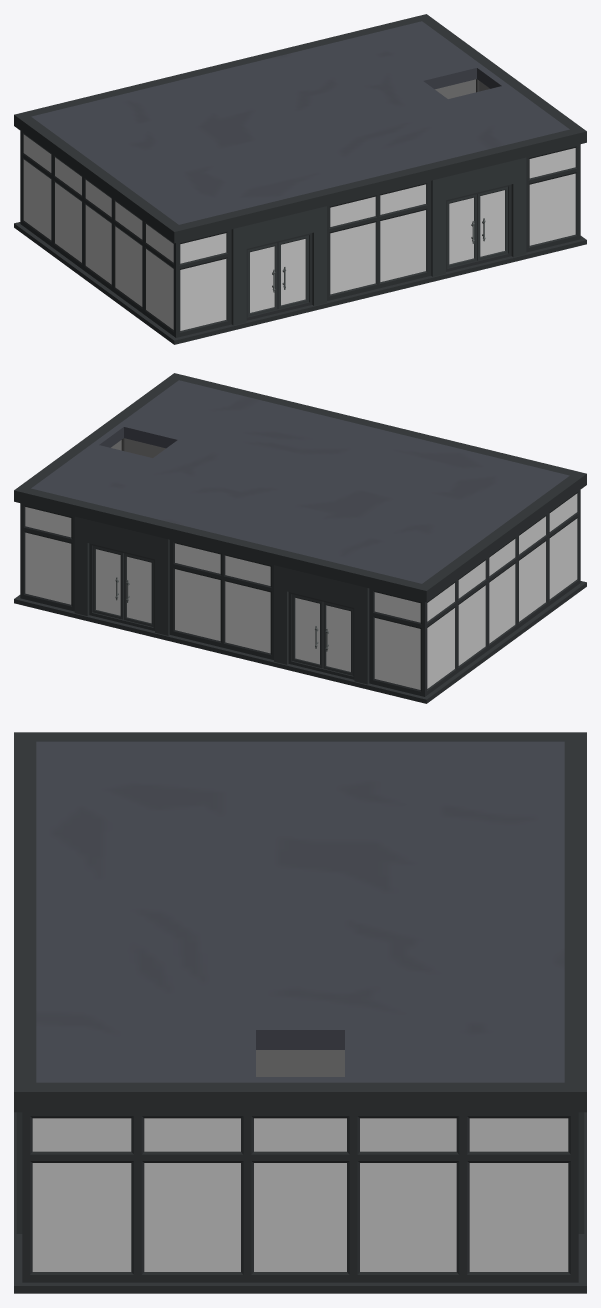
File: SM_Bldg_City_High-Rise_Modern_03_Base_01.fbx
The picture shows the model from 3 angles, top to bottom: view 1: azimuth 30°, elevation 25°; view 2: azimuth 150°, elevation 25°; view 3: azimuth 270°, elevation 25°; orthographic projection. The views are drawn at different scales.
Visible parts, largest first — view 1: SM_Bldg_City_High-Rise_Modern_03_Base_01; view 2: SM_Bldg_City_High-Rise_Modern_03_Base_01; view 3: SM_Bldg_City_High-Rise_Modern_03_Base_01.
Part boxes in pixels (<box>): SM_Bldg_City_High-Rise_Modern_03_Base_01: <box>14,14,586,344</box>; SM_Bldg_City_High-Rise_Modern_03_Base_01: <box>14,373,586,703</box>; SM_Bldg_City_High-Rise_Modern_03_Base_01: <box>14,732,586,1293</box>.
Bounding box in the file's own units: 15.3 × 4 × 10.3.
